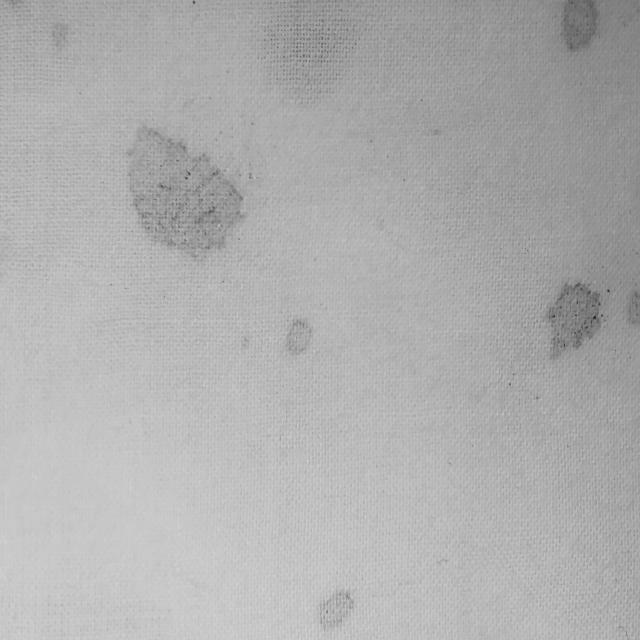Stain: (128, 125, 242, 255), (255, 0, 359, 103), (550, 283, 603, 356), (564, 0, 599, 49), (279, 315, 314, 358), (319, 592, 354, 631), (50, 19, 71, 49), (632, 291, 640, 323)
